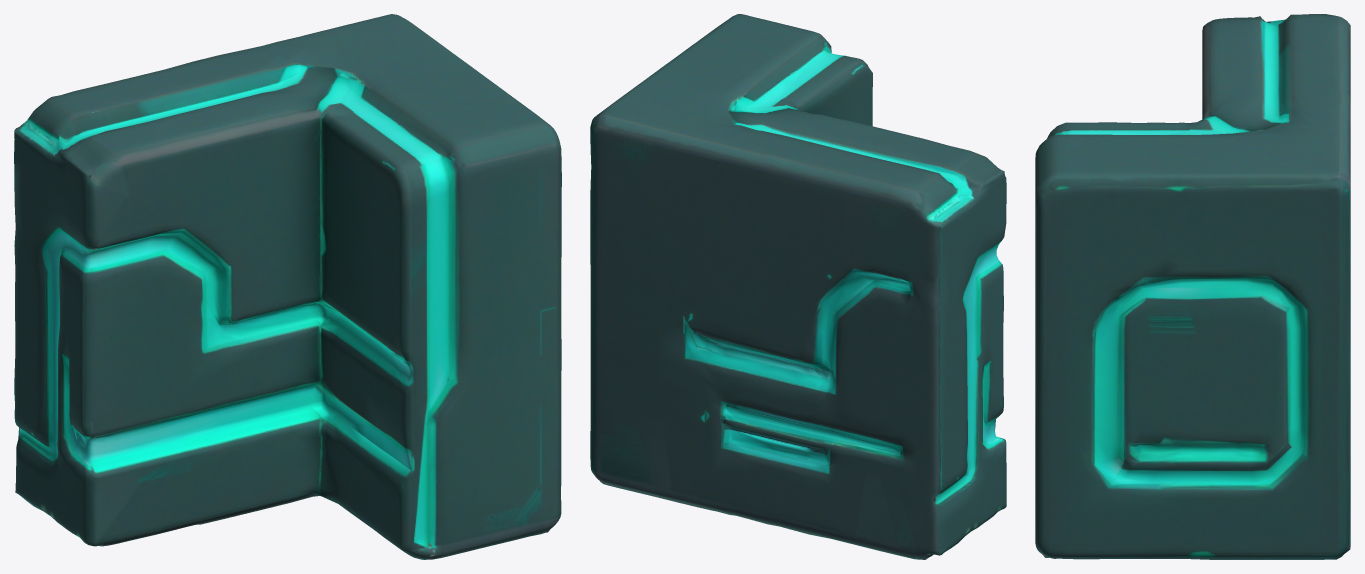
File: Neon_Corner_Tile_0926200952_texture.fbx
3 views of the same model, side by side, from view 1: azimuth 30°, elevation 25°; view 2: azimuth 150°, elevation 25°; view 3: azimuth 270°, elevation 25° (orthographic). The views are drawn at different scales.
Parts seen in each view (by area): view 1: Mesh0; view 2: Mesh0; view 3: Mesh0.
Boxes of the visible parts, x1=… form: Mesh0: x1=14, y1=14, x2=561, y2=559; Mesh0: x1=590, y1=14, x2=1006, y2=559; Mesh0: x1=1035, y1=14, x2=1350, y2=559.
Size of the model in its own units: 191 by 191 by 142.
1 material, 1 textured.
